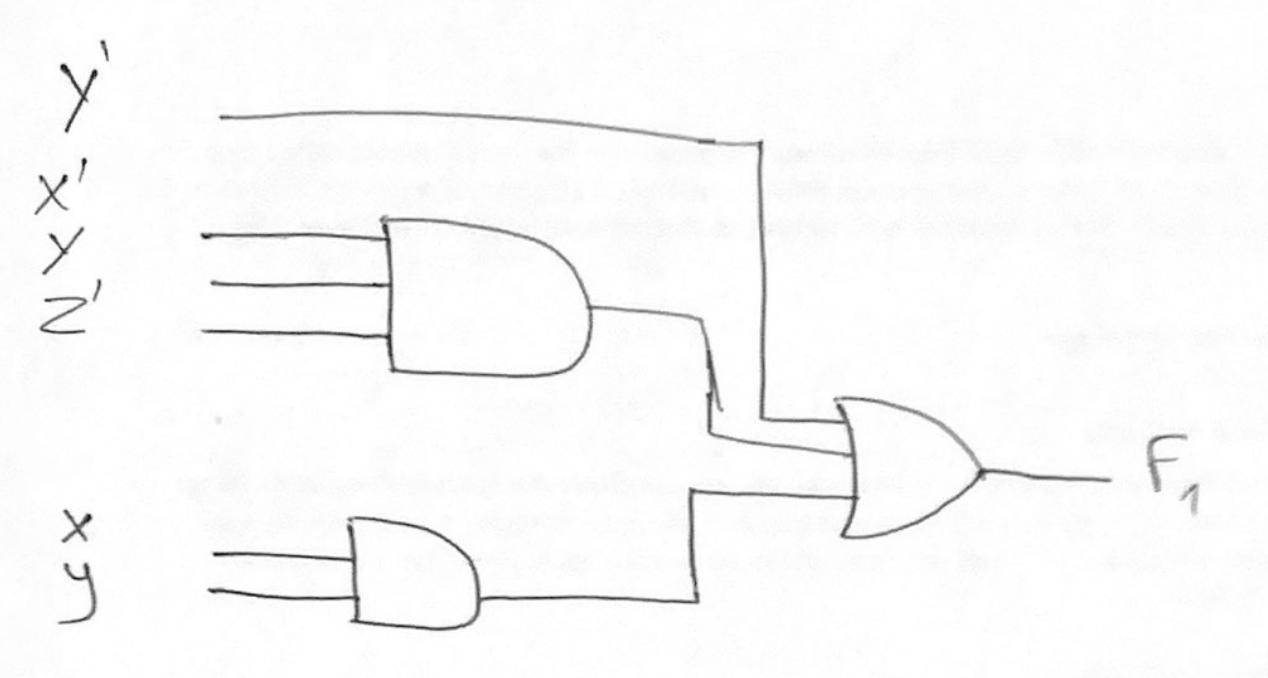AND: (371, 197, 603, 415), (331, 499, 500, 657)
OR: (824, 381, 1000, 566)
